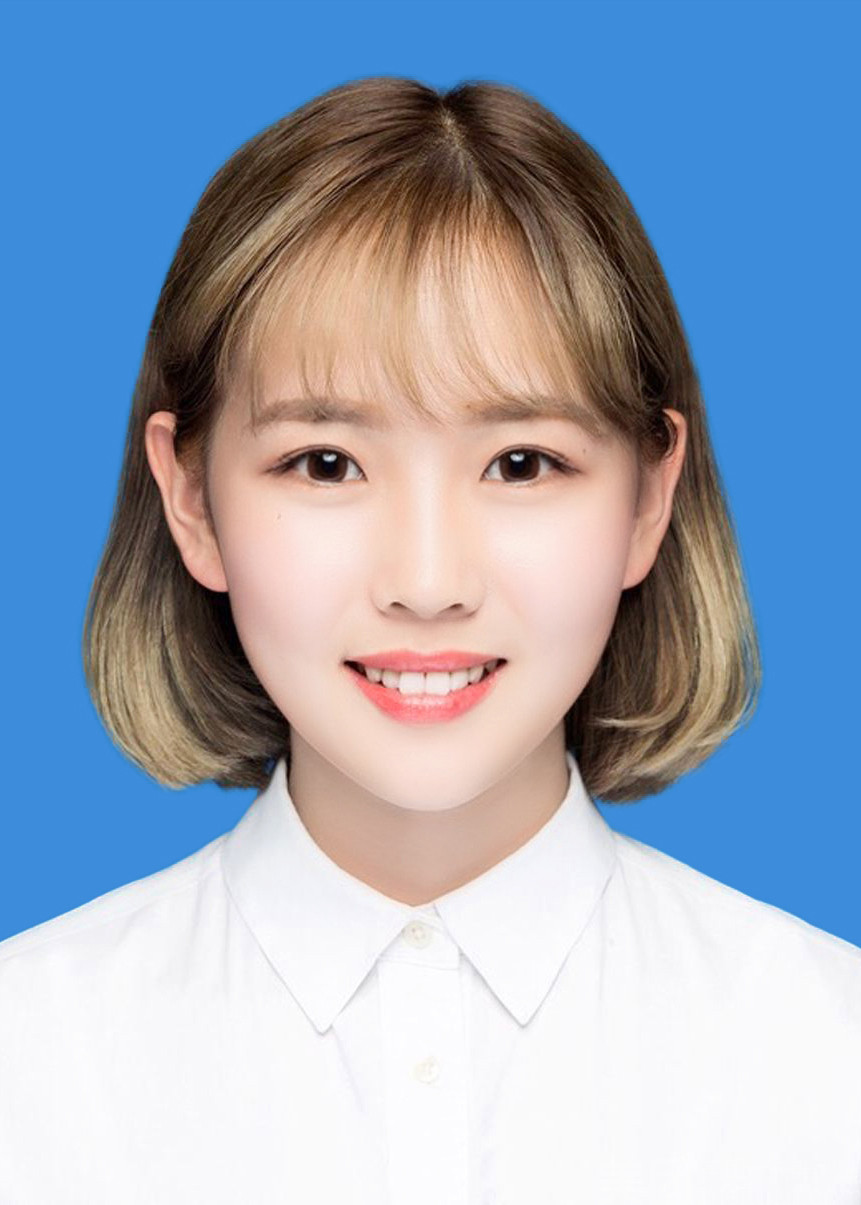unmask: (213, 352, 661, 786)
